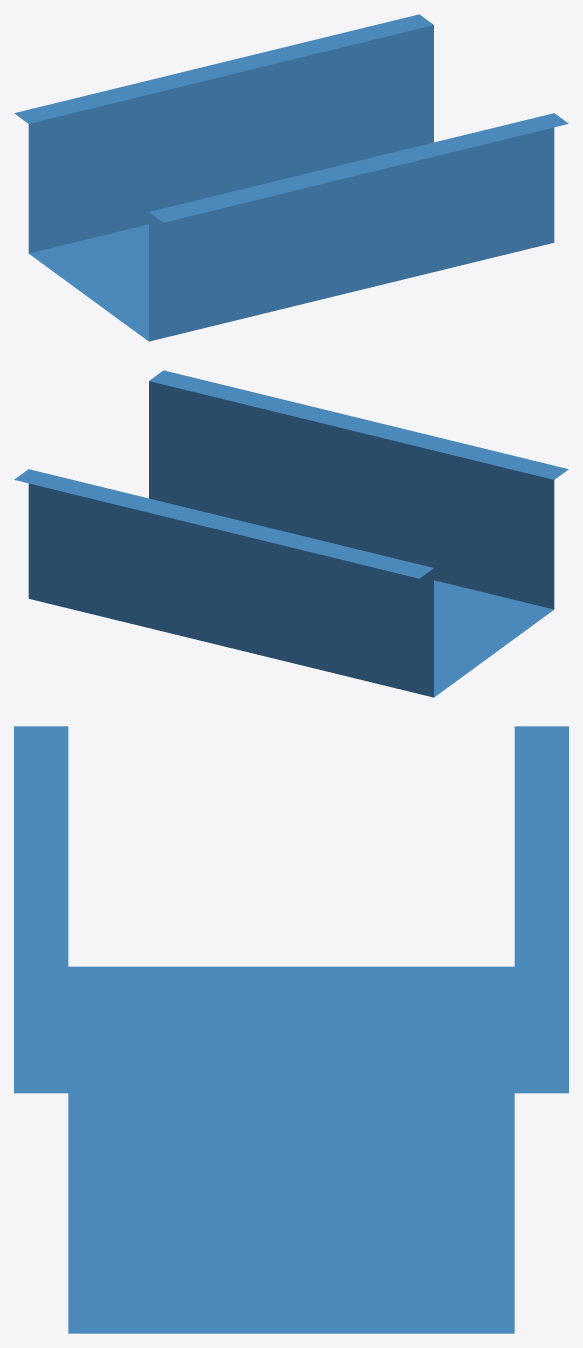
The model's file is Water_RiverBed.fbx.
The picture shows the model from 3 angles, top to bottom: view 1: azimuth 30°, elevation 25°; view 2: azimuth 150°, elevation 25°; view 3: azimuth 270°, elevation 25°; orthographic projection. The views are drawn at different scales.
Visible parts, largest first — view 1: Water_RiverBed; view 2: Water_RiverBed; view 3: Water_RiverBed.
Part boxes in pixels (box(x1,y1,x2,y2)): Water_RiverBed: box(14, 14, 568, 341); Water_RiverBed: box(14, 370, 568, 697); Water_RiverBed: box(14, 726, 568, 1333).
Size of the model in its own units: 1800 by 550 by 1150.
